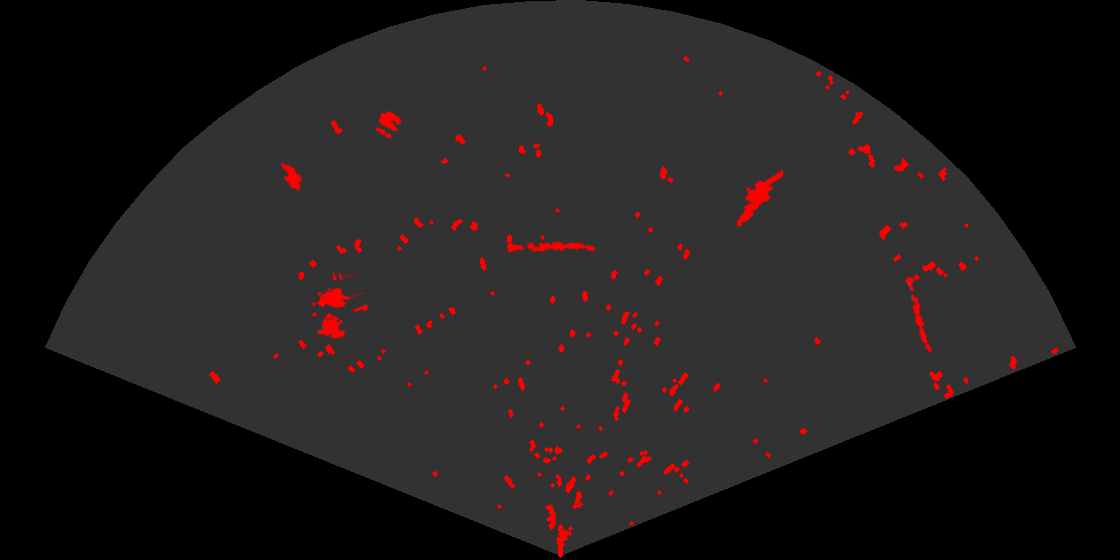AUV: (279, 161, 303, 192)
ball: (374, 109, 403, 140)
cage: (310, 273, 363, 340)
chain: (903, 273, 933, 354), (505, 240, 597, 254)
frogman: (735, 170, 783, 228)
